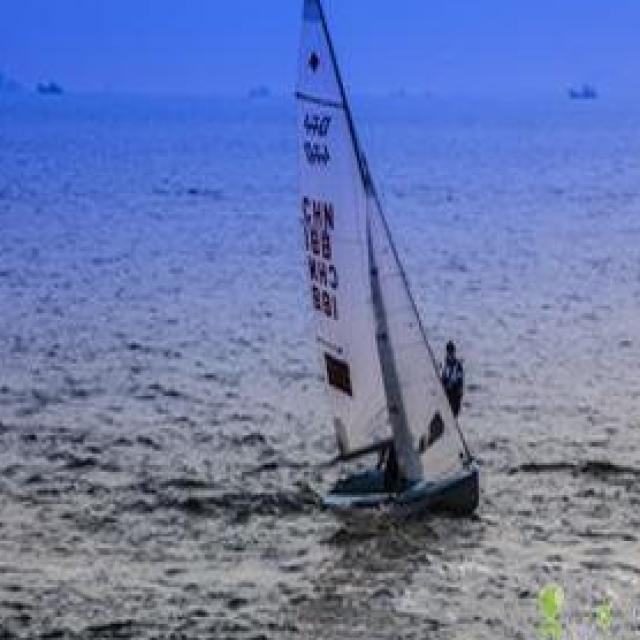sailboat: (267, 0, 495, 520)
